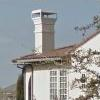Chimney: (24, 4, 63, 55)
